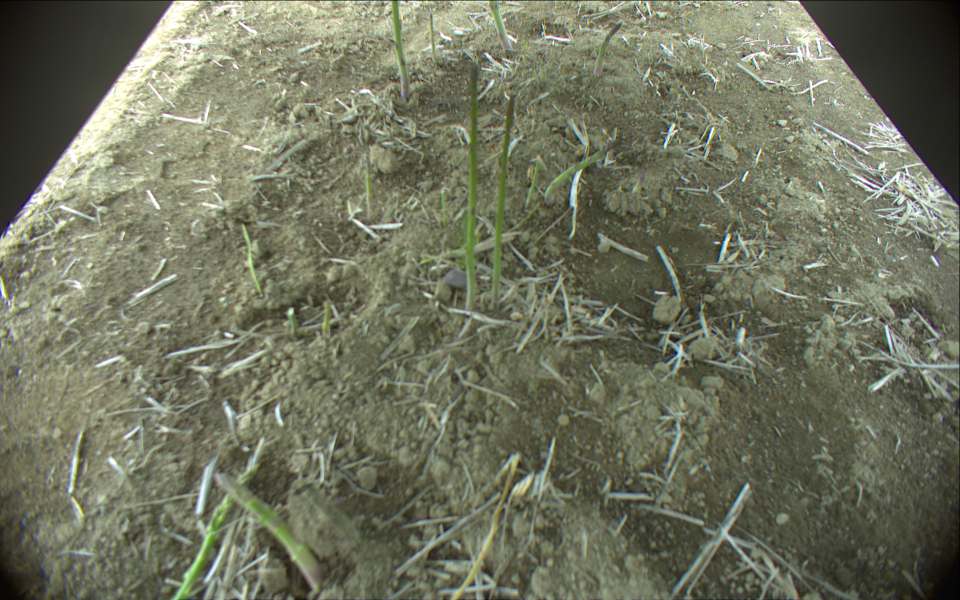aspa: (168, 443, 265, 600), (213, 474, 327, 588), (492, 95, 515, 309), (465, 59, 478, 314), (545, 148, 602, 206), (390, 1, 412, 97), (594, 18, 623, 75), (488, 1, 517, 51), (247, 233, 266, 298), (525, 156, 541, 206), (367, 151, 375, 209), (429, 13, 438, 60), (321, 301, 333, 334), (286, 308, 297, 332)
